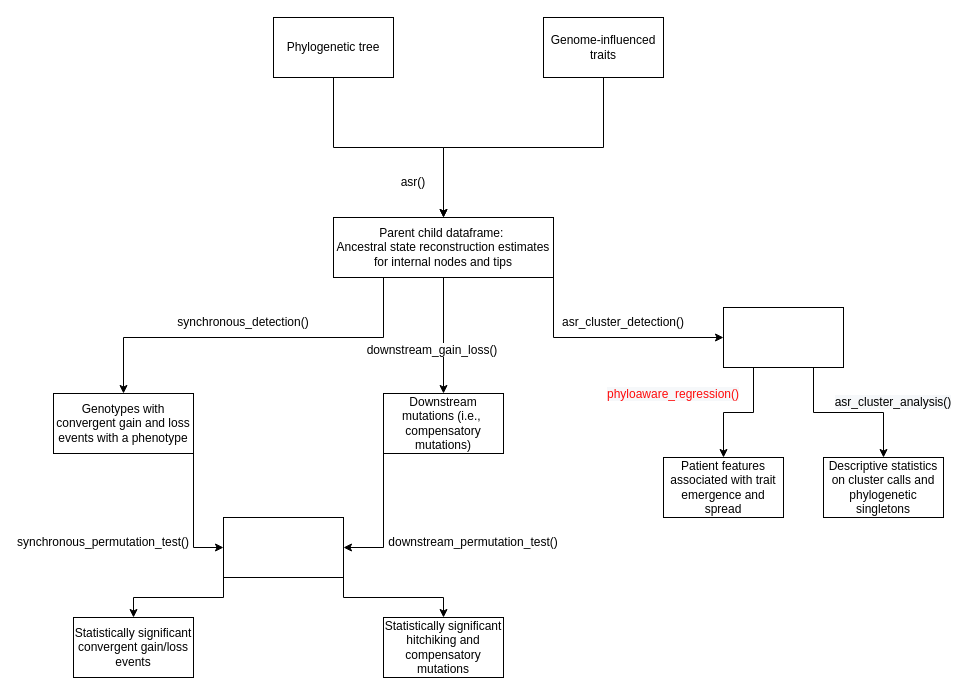
The diagram is 969 pixels wide and 695 high, and some of its shapes have lost their labels. Each missing label, with the centre of its shape:
"Random permutation of genotype on tree and perform ASR" goes at pixel 283 547.
"Tip dataframe: Cluster and singleton calls" goes at pixel 783 337.
